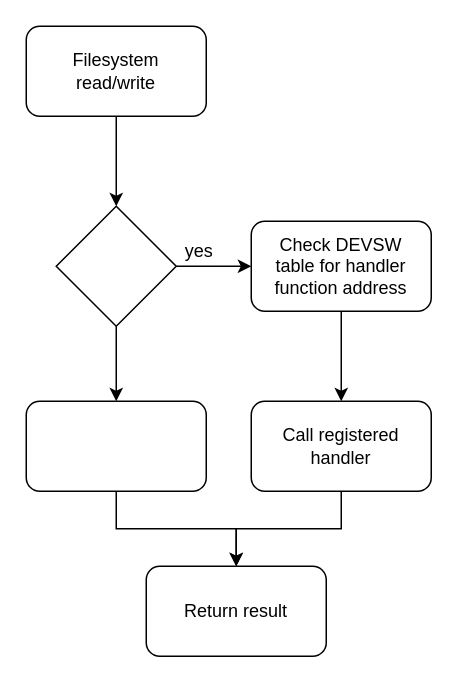
Some shapes in this 458 by 683 pixel diagram are drawn without their labels. Each missing label, with the centre of its shape:
Device File?: pixel 115 265
Read/write from filesystem: pixel 115 445
